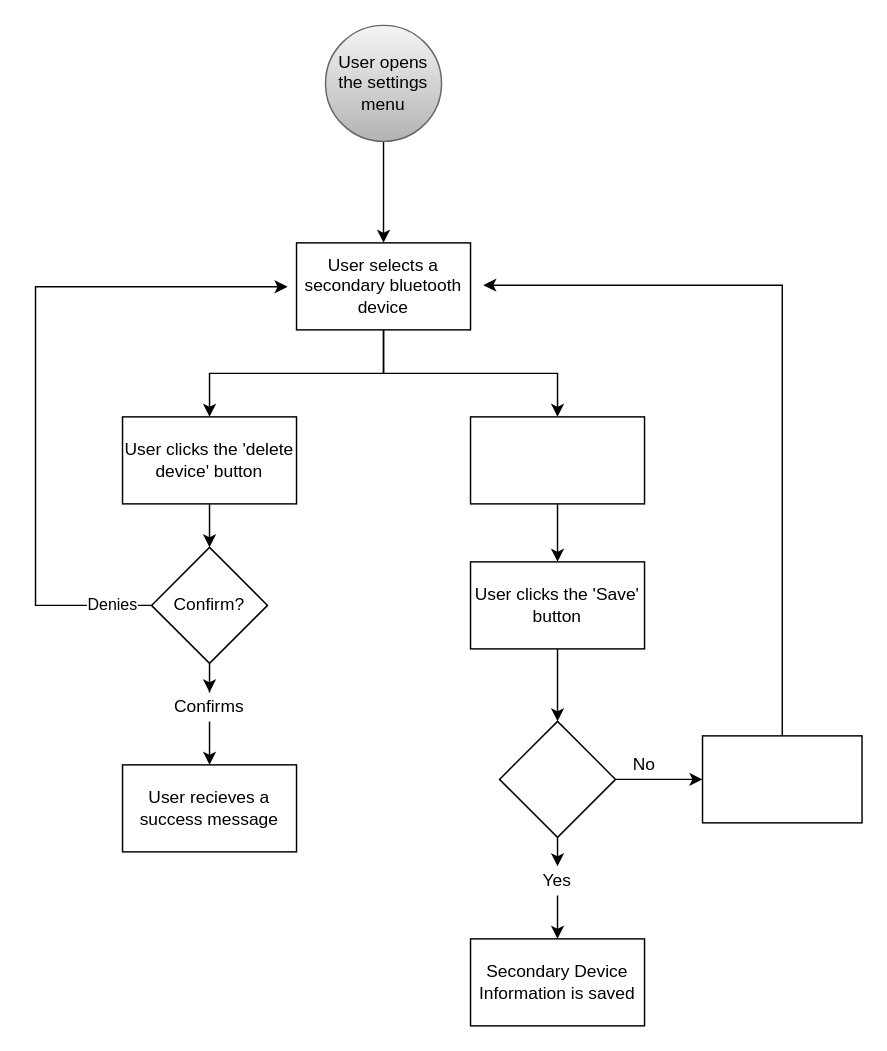
Some shapes in this 887 by 1051 pixel diagram are drawn without their labels. Here are the shapes that lost their labels. From the top down, the centre of each, then its label:
At [557,459]: "User edits information about secondary device as needed".
At [557,778]: "Valid Input?".
At [781,778]: "Displays message detailing error and directs User back to start".
